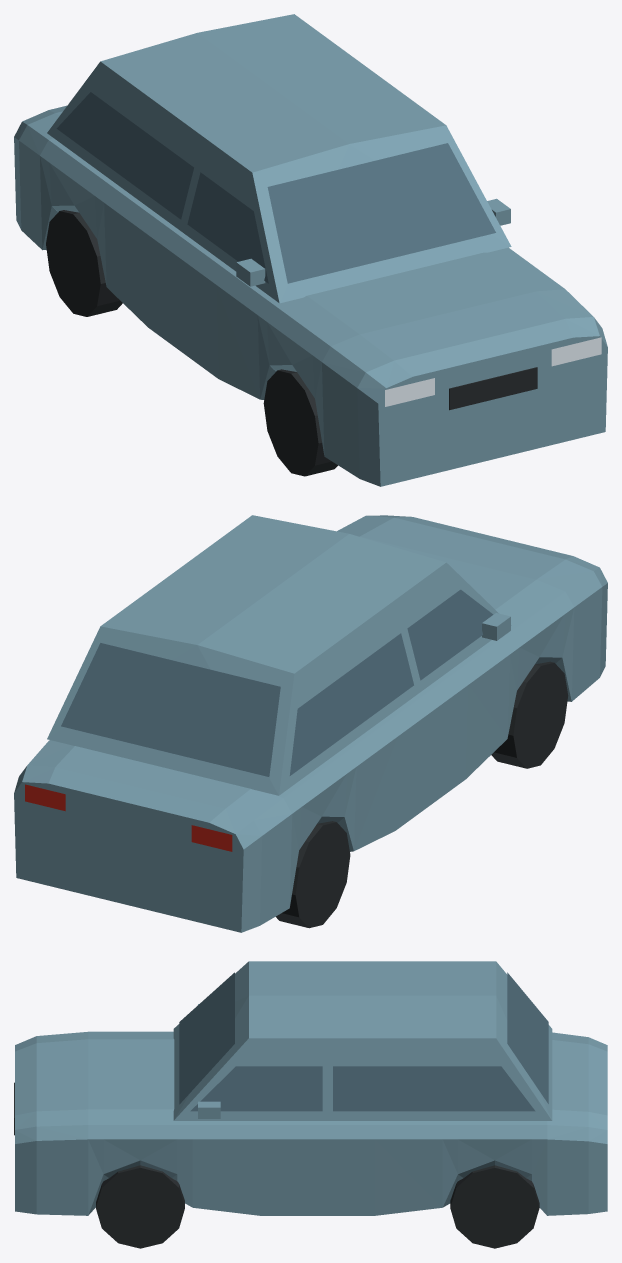
Rendered from traffic-suv.lod1.glb.
3 views of the same model, one above another, from view 1: azimuth 30°, elevation 25°; view 2: azimuth 150°, elevation 25°; view 3: azimuth 270°, elevation 25° (orthographic). The views are drawn at different scales.
Visible parts, largest first — view 1: body-shell, glass, wheel-rear-right, wheel-front-right, trim; view 2: body-shell, glass, wheel-front-right, wheel-rear-right; view 3: body-shell, glass, wheel-rear-left, wheel-front-left.
Boxes of the visible parts, x1,y1,x2,y2 form: body-shell: [14, 14, 607, 486]; glass: [56, 92, 601, 406]; wheel-rear-right: [46, 210, 122, 316]; wheel-front-right: [263, 369, 337, 476]; trim: [449, 367, 537, 410]; body-shell: [14, 515, 607, 932]; glass: [25, 589, 493, 851]; wheel-front-right: [491, 661, 568, 768]; wheel-rear-right: [276, 821, 350, 928]; body-shell: [15, 961, 607, 1215]; glass: [179, 972, 548, 1111]; wheel-rear-left: [450, 1165, 539, 1248]; wheel-front-left: [96, 1165, 184, 1248].
Size of the model in its own units: 1.92 by 1.76 by 4.66.
